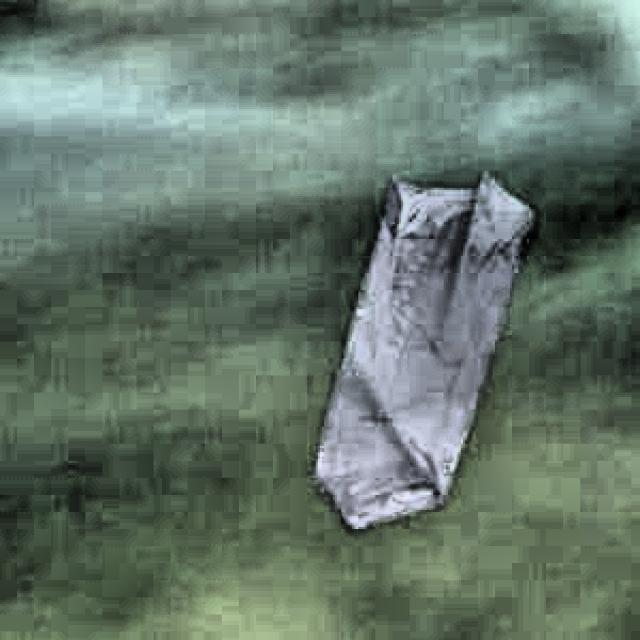Plastic: (296, 167, 535, 539)
